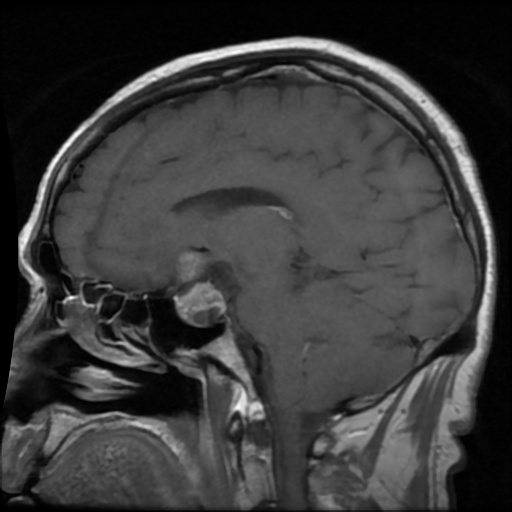pituitary: (173, 249, 227, 325)
